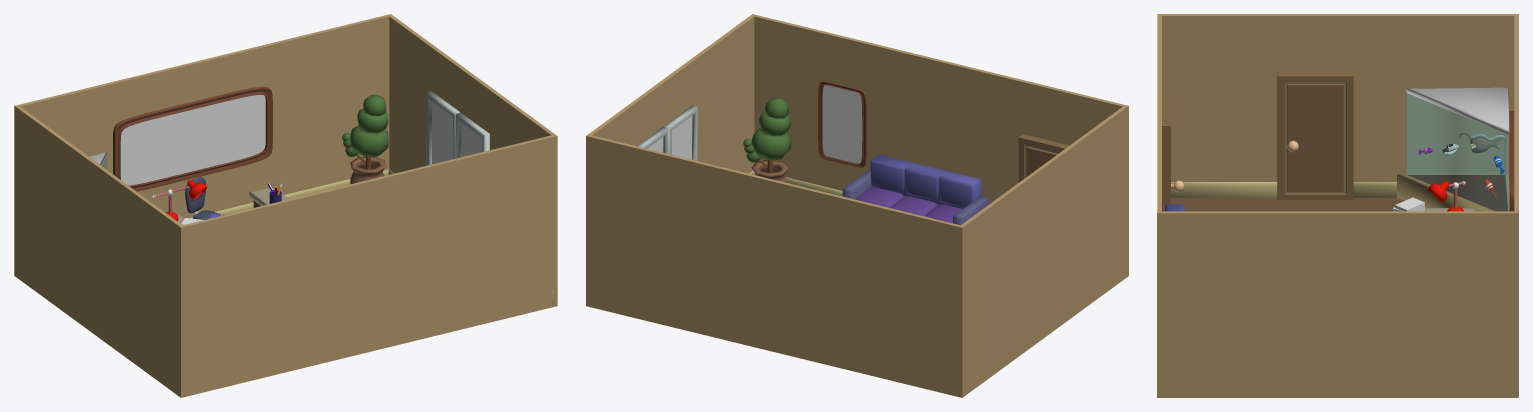
Rendered from холл.fbx.
3 views of the same model, side by side, from view 1: azimuth 30°, elevation 25°; view 2: azimuth 150°, elevation 25°; view 3: azimuth 270°, elevation 25° (orthographic). The views are drawn at different scales.
Visible parts, largest first — view 1: Walls2, Walls1, Plane, Cube.015, Cube.024, Cube.007, Cube.013, Cylinder.006; view 2: Walls1, Walls2, Cube.038, Plane.002, Cube.028, Cube.015, Cube.107; view 3: Walls1, Walls2, Cube.061, Cube.014, Floor, Cube.002, Cube.107, Plane, Cylinder.006, Cube.052, Cube.090.
Part boxes in pixels (bbox=[...]): Walls2: bbox=[14, 105, 553, 397]; Walls1: bbox=[18, 14, 557, 306]; Plane: bbox=[113, 86, 272, 191]; Cube.015: bbox=[426, 91, 489, 165]; Cube.024: bbox=[342, 94, 388, 183]; Cube.007: bbox=[189, 169, 553, 303]; Cube.013: bbox=[185, 177, 219, 219]; Cylinder.006: bbox=[151, 180, 206, 220]; Walls1: bbox=[586, 14, 960, 396]; Walls2: bbox=[754, 15, 1128, 397]; Cube.038: bbox=[842, 154, 988, 225]; Plane.002: bbox=[818, 81, 866, 167]; Cube.028: bbox=[743, 97, 791, 182]; Cube.015: bbox=[637, 105, 697, 160]; Cube.107: bbox=[1018, 134, 1069, 182]; Walls1: bbox=[1157, 15, 1518, 397]; Walls2: bbox=[1157, 14, 1518, 211]; Cube.061: bbox=[1397, 87, 1509, 211]; Cube.014: bbox=[1277, 72, 1353, 199]; Floor: bbox=[1171, 197, 1518, 395]; Cube.002: bbox=[1171, 182, 1396, 197]; Cube.107: bbox=[1162, 93, 1184, 211]; Plane: bbox=[1509, 111, 1514, 211]; Cylinder.006: bbox=[1428, 181, 1465, 211]; Cube.052: bbox=[1458, 133, 1505, 153]; Cube.090: bbox=[1393, 197, 1424, 211].
Bounding box in the file's own units: 688 × 297 × 528.
